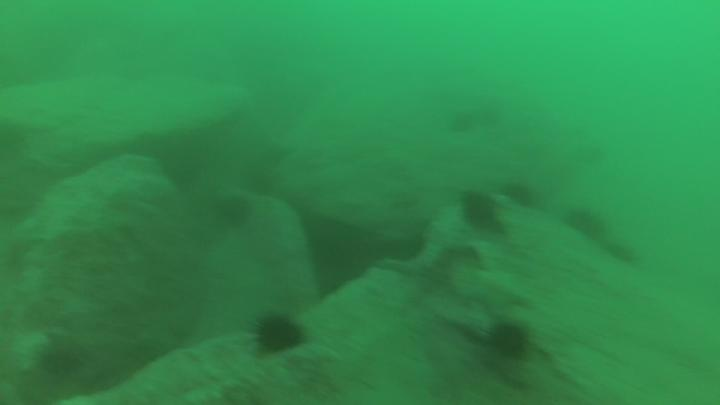echinus: (259, 318, 303, 355), (564, 206, 605, 240), (463, 191, 501, 225), (490, 323, 525, 358), (505, 183, 533, 208)
starfish: (465, 270, 532, 322)
